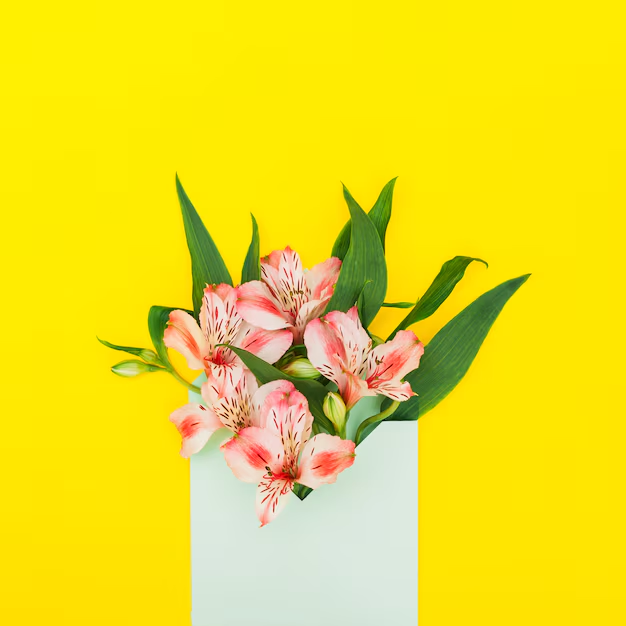Pink: (220, 392, 357, 529), (163, 286, 292, 387), (169, 361, 295, 462), (311, 306, 422, 411), (235, 246, 342, 333)
